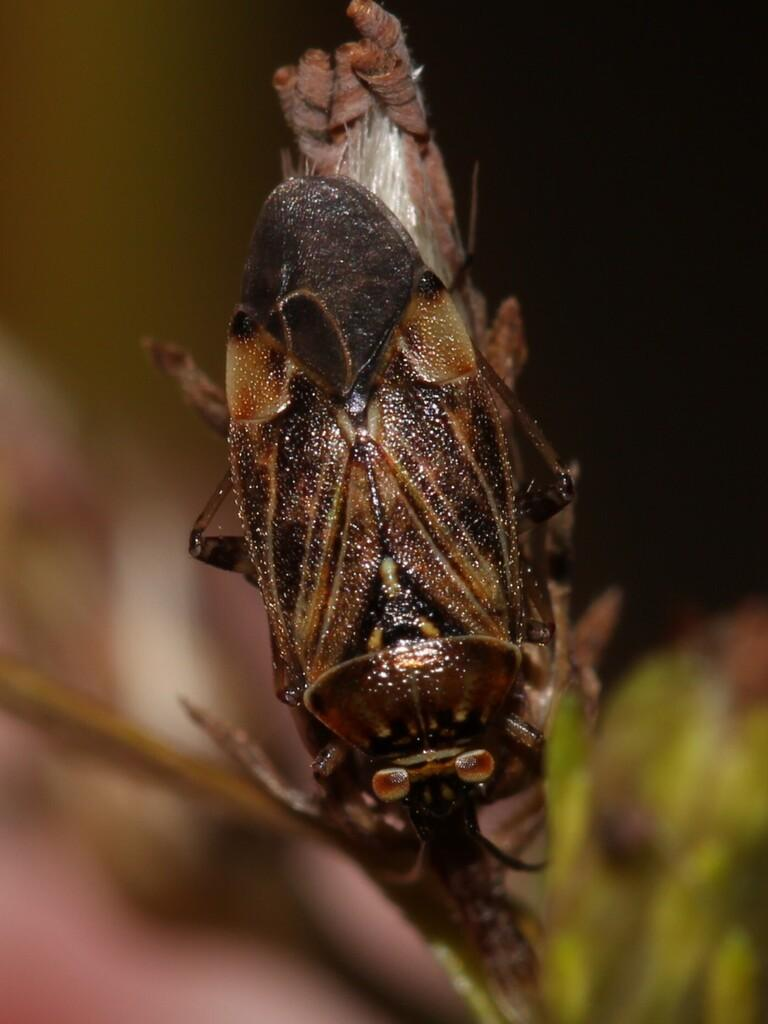plant_bugs: (72, 73, 731, 940)
